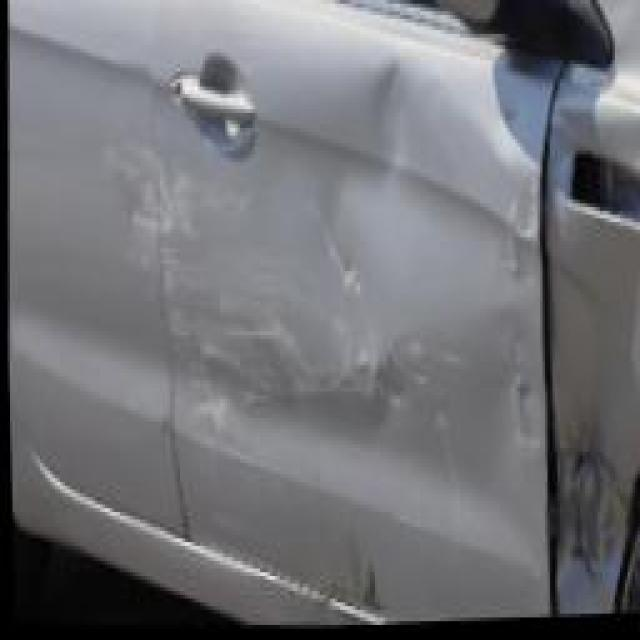Door: (80, 45, 546, 637)
Fender: (535, 75, 640, 621)
